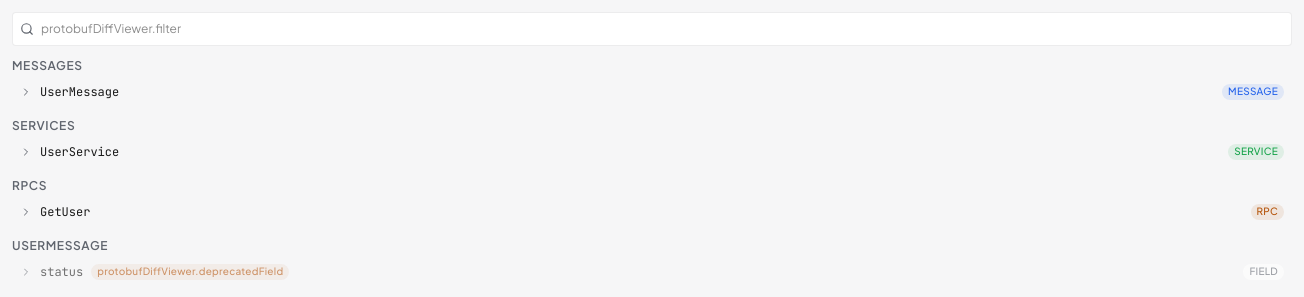
Test: ProtobufSchemaExplorer › filters items by search
In the field: (652, 29) [12, 12, 1292, 46], type "Service"
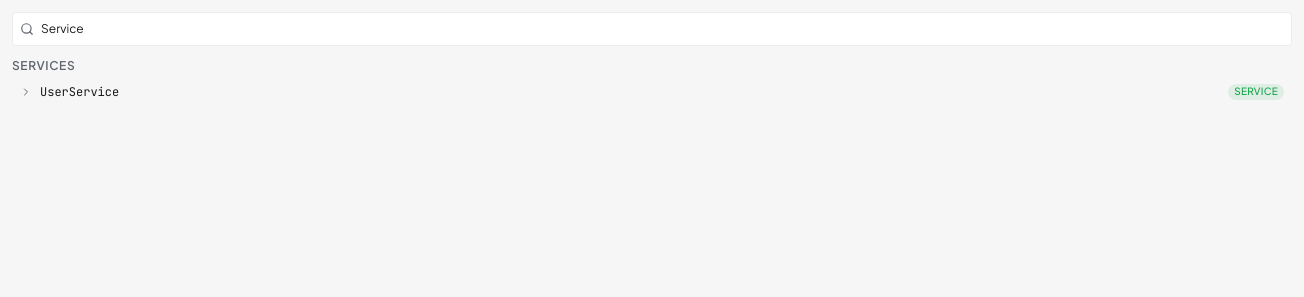
Expected: the text "UserService" is shown, [40, 84, 119, 100]
Result: the button "UserMessage" is gone
